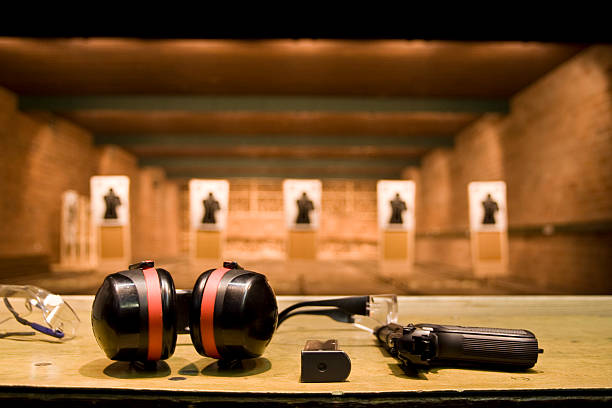pistol: (371, 321, 546, 376)
